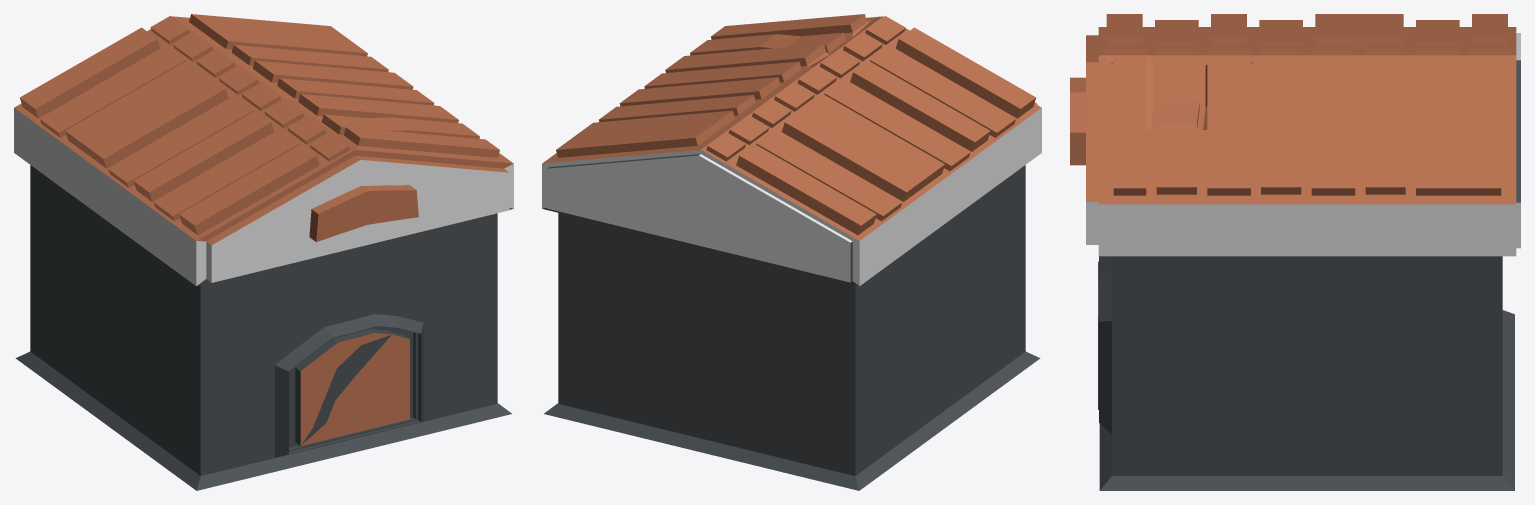
3 renders of one model, left to right at view 1: azimuth 30°, elevation 25°; view 2: azimuth 150°, elevation 25°; view 3: azimuth 270°, elevation 25°, orthographic. The views are drawn at different scales.
Visible parts, largest first — view 1: Cube.001; view 2: Cube.001; view 3: Cube.001.
Boxes of the visible parts, x1,y1,x2,y2 form: Cube.001: (14,14,513,490); Cube.001: (542,14,1041,490); Cube.001: (1070,14,1520,490).
Size of the model in its own units: 414 by 382 by 444.
